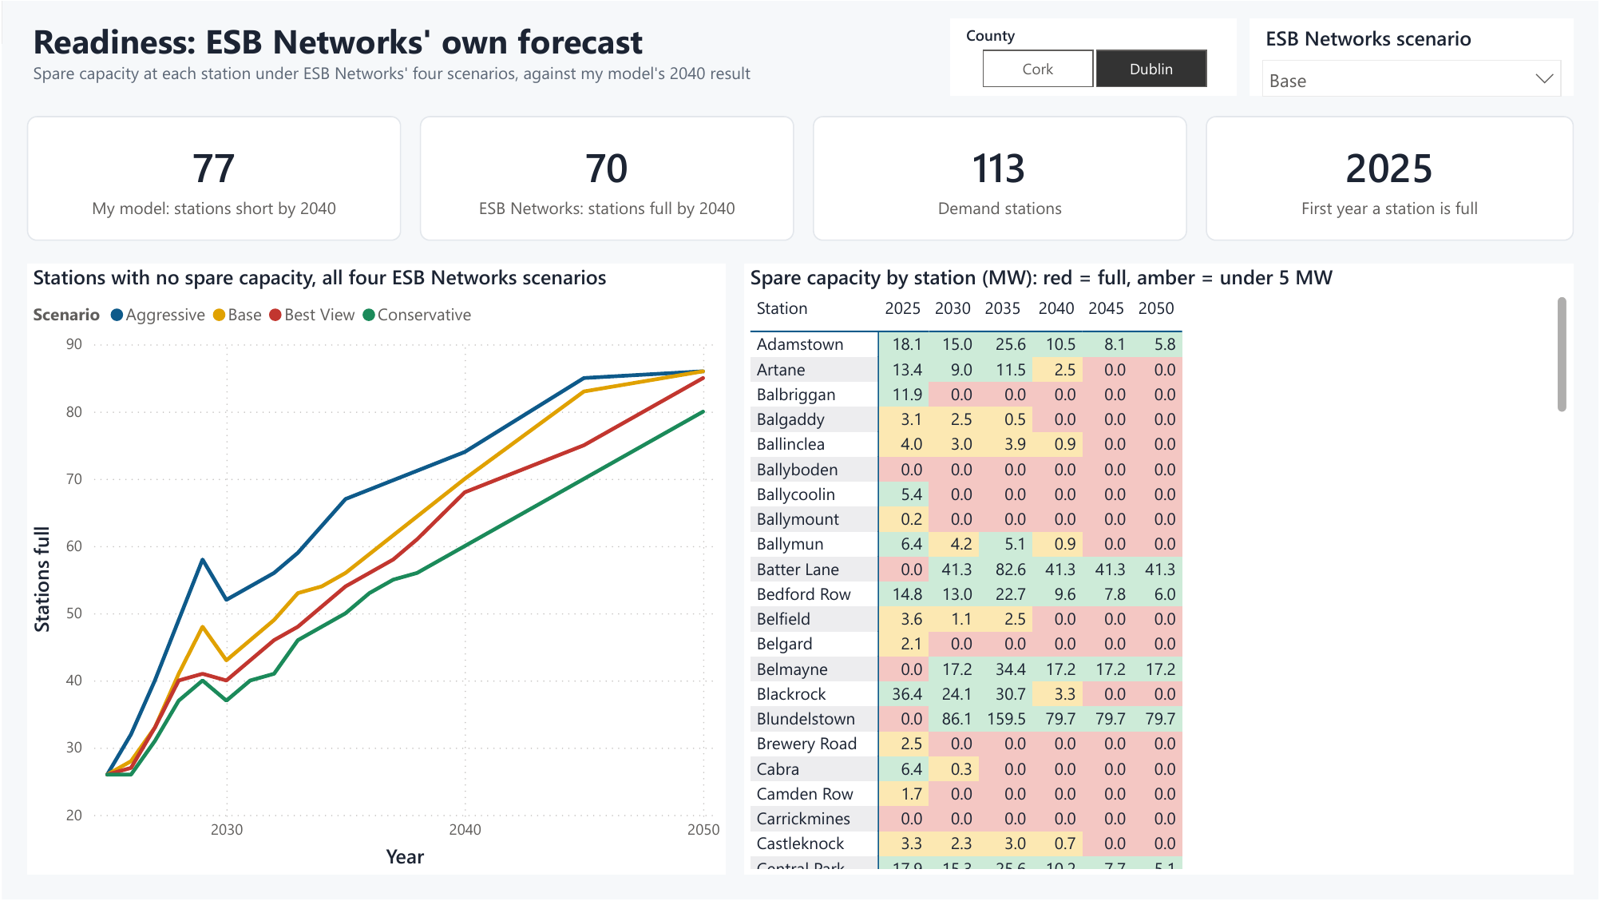

What the dashboard file says about the page in this screenshot:
{"tool":"powerbi","page":{"name":"Readiness","canvas":[1280,720],"ordinal":1},"visuals":[{"type":"textbox","box":[20,8,720,76],"z":1000},{"type":"slicer","fields":{"Values":["dim_county.County"]},"box":[760,14,230,62],"z":2000},{"type":"slicer","fields":{"Values":["fact_esbn_headroom.Scenario"]},"box":[1000,14,260,62],"z":3000},{"type":"card","fields":{"Values":["_Measures.Stations Short 2040"]},"box":[20,92,300,100],"z":4000},{"type":"card","fields":{"Values":["_Measures.ESBN Stations Full"]},"box":[335,92,300,100],"z":5000},{"type":"card","fields":{"Values":["_Measures.Stations"]},"box":[650,92,300,100],"z":6000},{"type":"card","fields":{"Values":["_Measures.ESBN First Year Full"]},"box":[965,92,295,100],"z":7000},{"type":"lineChart","title":"Stations with no spare capacity, all four ESB Networks scenarios","fields":{"Category":["dim_year.Year"],"Series":["fact_esbn_headroom.Scenario"],"Y":["_Measures.ESBN Stations Full"]},"box":[20,210,560,490],"z":8000},{"type":"pivotTable","title":"Spare capacity by station (MW): red = full, amber = under 5 MW","fields":{"Columns":["dim_year.Year"],"Rows":["dim_station.Station"],"Values":["_Measures.ESBN Headroom MW"]},"box":[595,210,665,490],"z":9000}]}

Visuals, with their boxes in screenshot pixels (x1, y1, x2, y2), scaled from the page's 1280x720 canvas onto the 1600x901 screenshot:
textbox: rect(25, 10, 925, 105)
slicer - dim_county.County: rect(950, 18, 1238, 95)
slicer - fact_esbn_headroom.Scenario: rect(1250, 18, 1575, 95)
card - _Measures.Stations Short 2040: rect(25, 115, 400, 240)
card - _Measures.ESBN Stations Full: rect(419, 115, 794, 240)
card - _Measures.Stations: rect(812, 115, 1188, 240)
card - _Measures.ESBN First Year Full: rect(1206, 115, 1575, 240)
"Stations with no spare capacity, all four ESB Networks scenarios" lineChart: rect(25, 263, 725, 876)
"Spare capacity by station (MW): red = full, amber = under 5 MW" pivotTable: rect(744, 263, 1575, 876)
